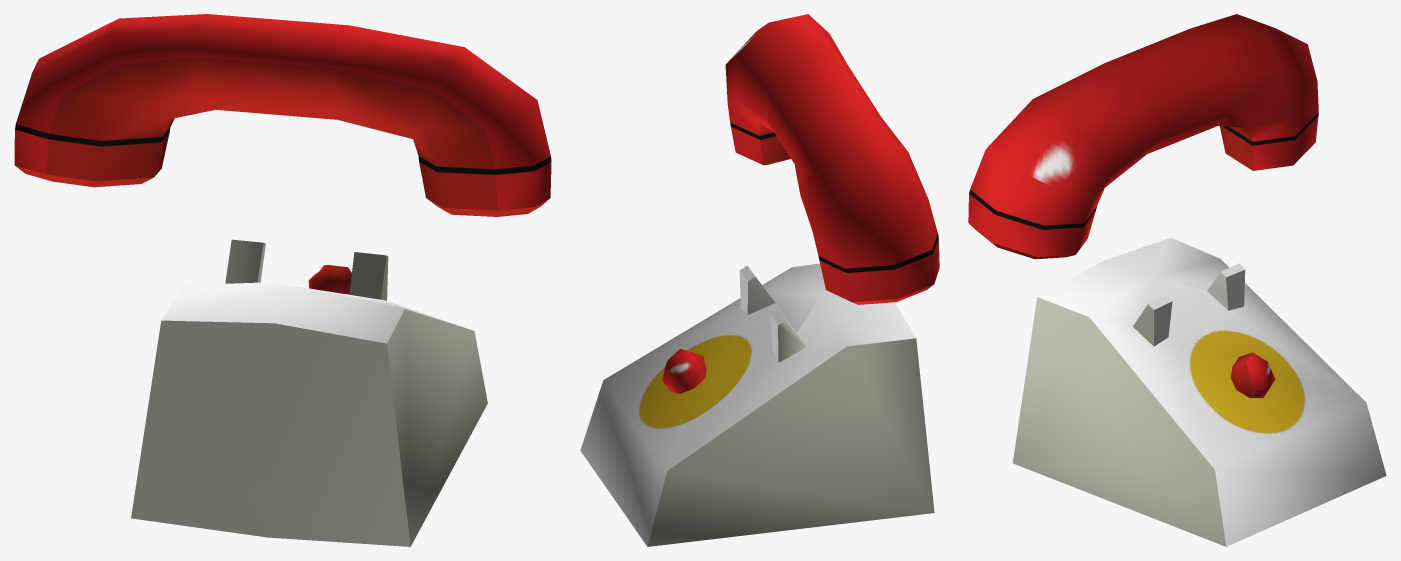
File: PPGIcon.obj
3 renders of one model, left to right at view 1: azimuth 30°, elevation 25°; view 2: azimuth 150°, elevation 25°; view 3: azimuth 270°, elevation 25°, orthographic. The views are drawn at different scales.
Bounding box in the file's own units: 4.67 × 4.74 × 4.56.
Materials: 1 (1 with a texture image).
